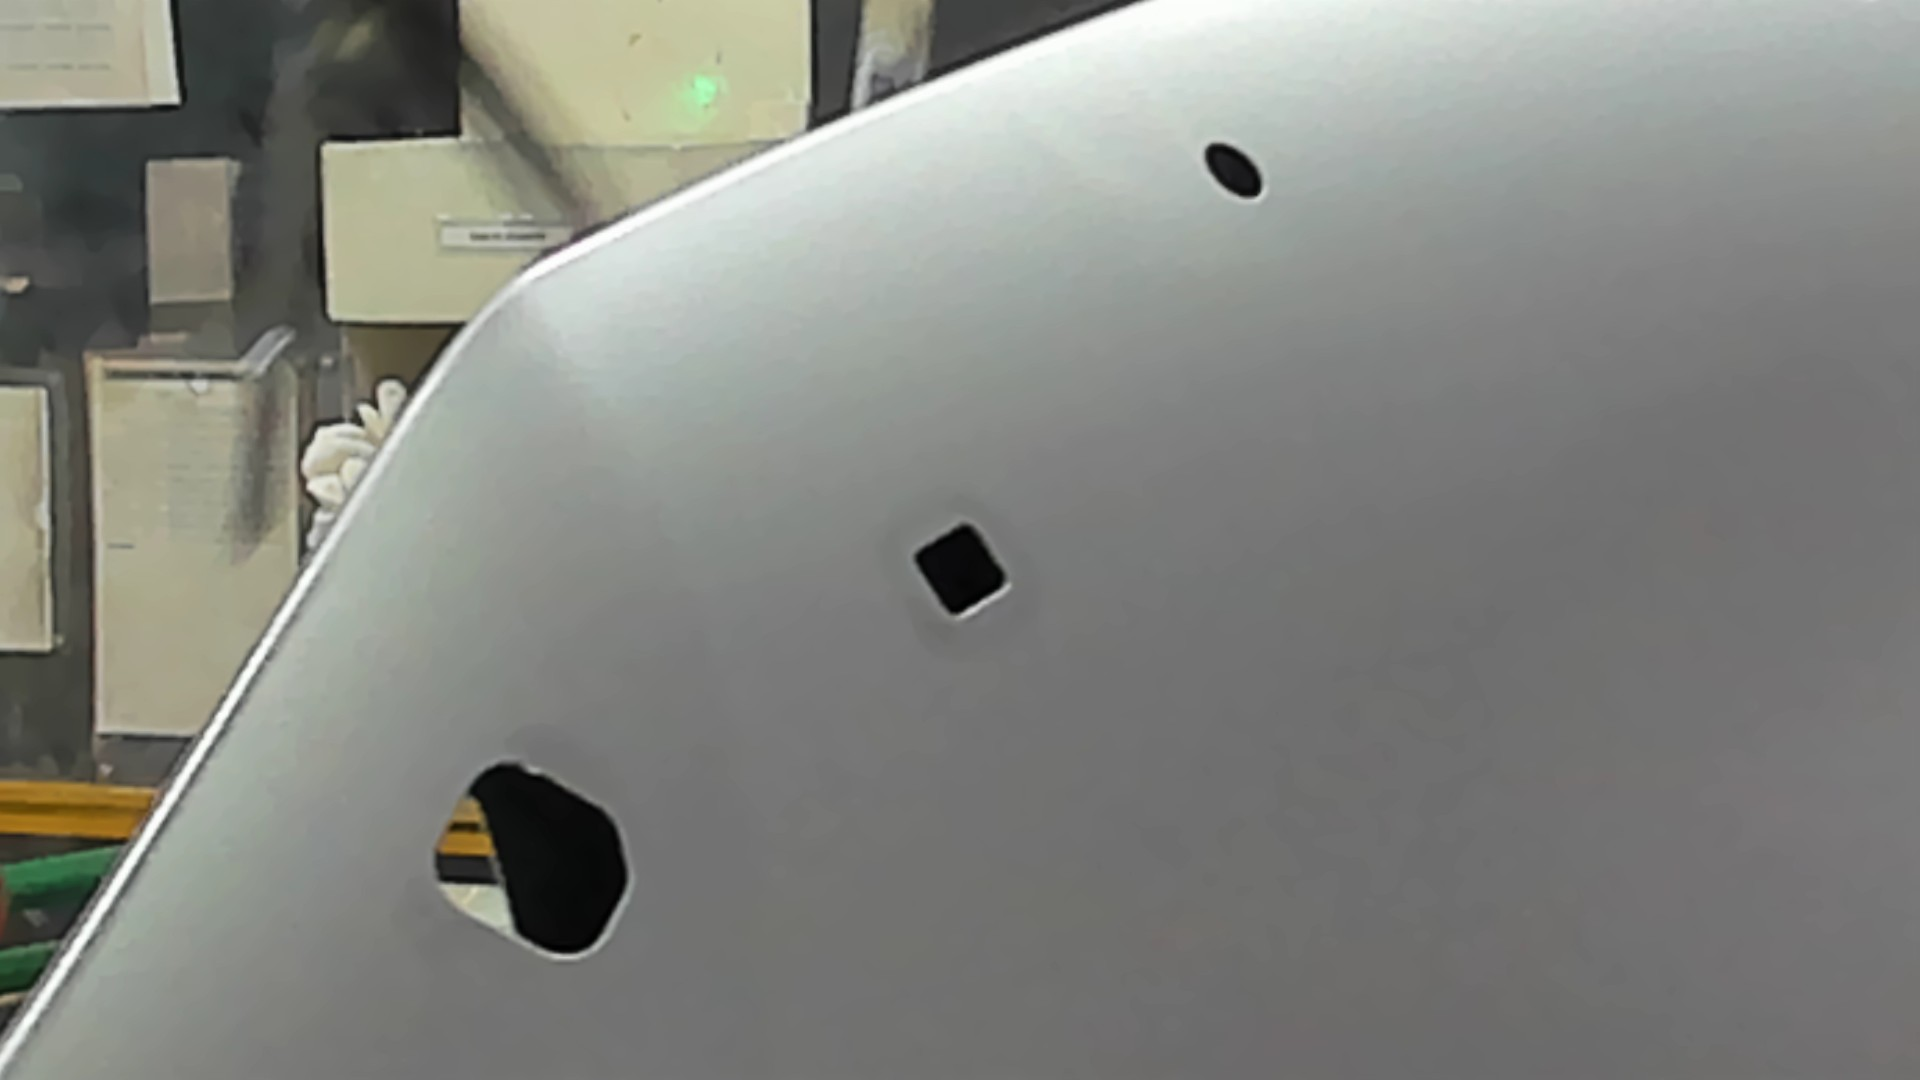chico: (1193, 128, 1278, 220)
grande: (386, 740, 671, 988)
mediano: (873, 498, 1052, 636)
